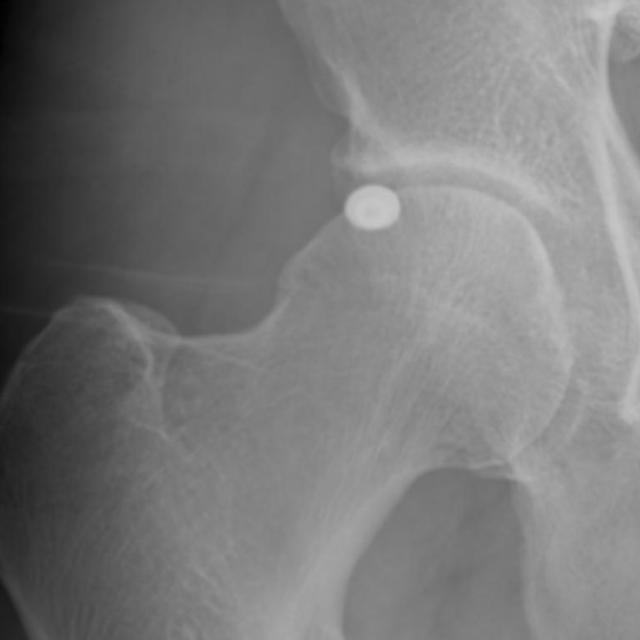Fitted_femural_head: (291, 186, 432, 291)
